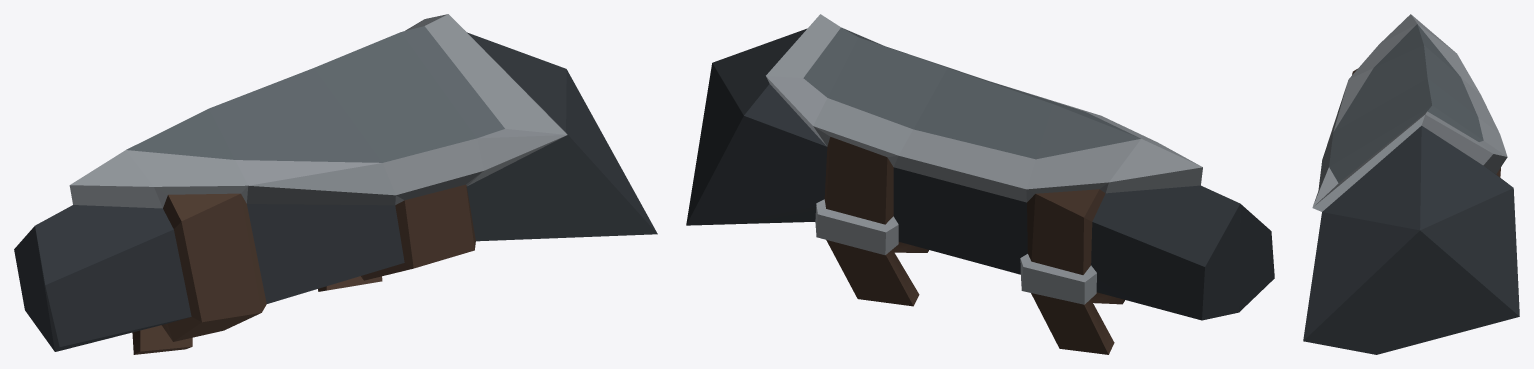
File: Chr_ArmUpperRight_Female_13_Static.fbx
3 renders of one model, left to right at view 1: azimuth 30°, elevation 25°; view 2: azimuth 150°, elevation 25°; view 3: azimuth 270°, elevation 25°, orthographic. The views are drawn at different scales.
Parts seen in each view (by area): view 1: Chr_ArmUpperRight_Female_13_Static; view 2: Chr_ArmUpperRight_Female_13_Static; view 3: Chr_ArmUpperRight_Female_13_Static.
Part boxes in pixels (x1,y1,x2,y2): Chr_ArmUpperRight_Female_13_Static: (14, 14, 657, 354); Chr_ArmUpperRight_Female_13_Static: (686, 14, 1274, 354); Chr_ArmUpperRight_Female_13_Static: (1303, 14, 1519, 354).
Size of the model in its own units: 0.3512 by 0.1634 by 0.136.
